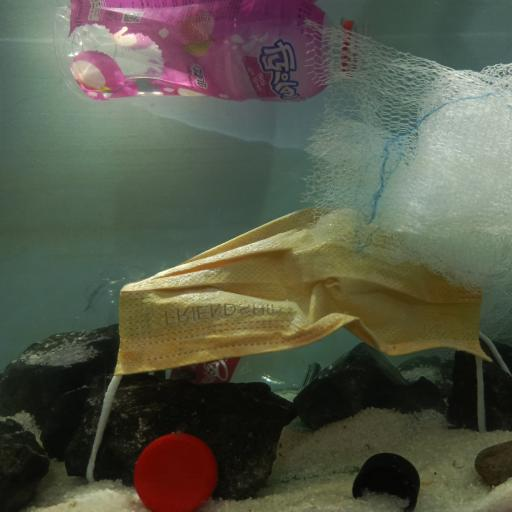bottle_cap: (135, 434, 216, 512), (351, 451, 421, 512)
mask: (112, 203, 494, 378)
net: (297, 14, 512, 340)
plastic_bottle: (52, 0, 364, 105), (75, 263, 324, 393)
